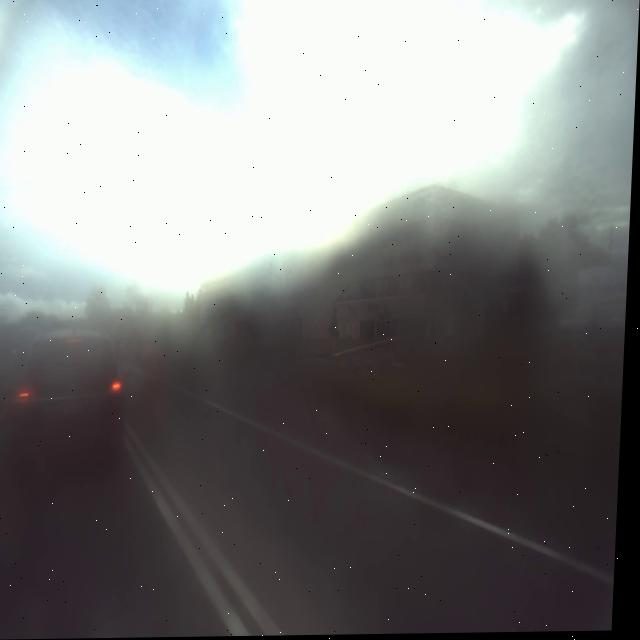car: (8, 323, 139, 488)
